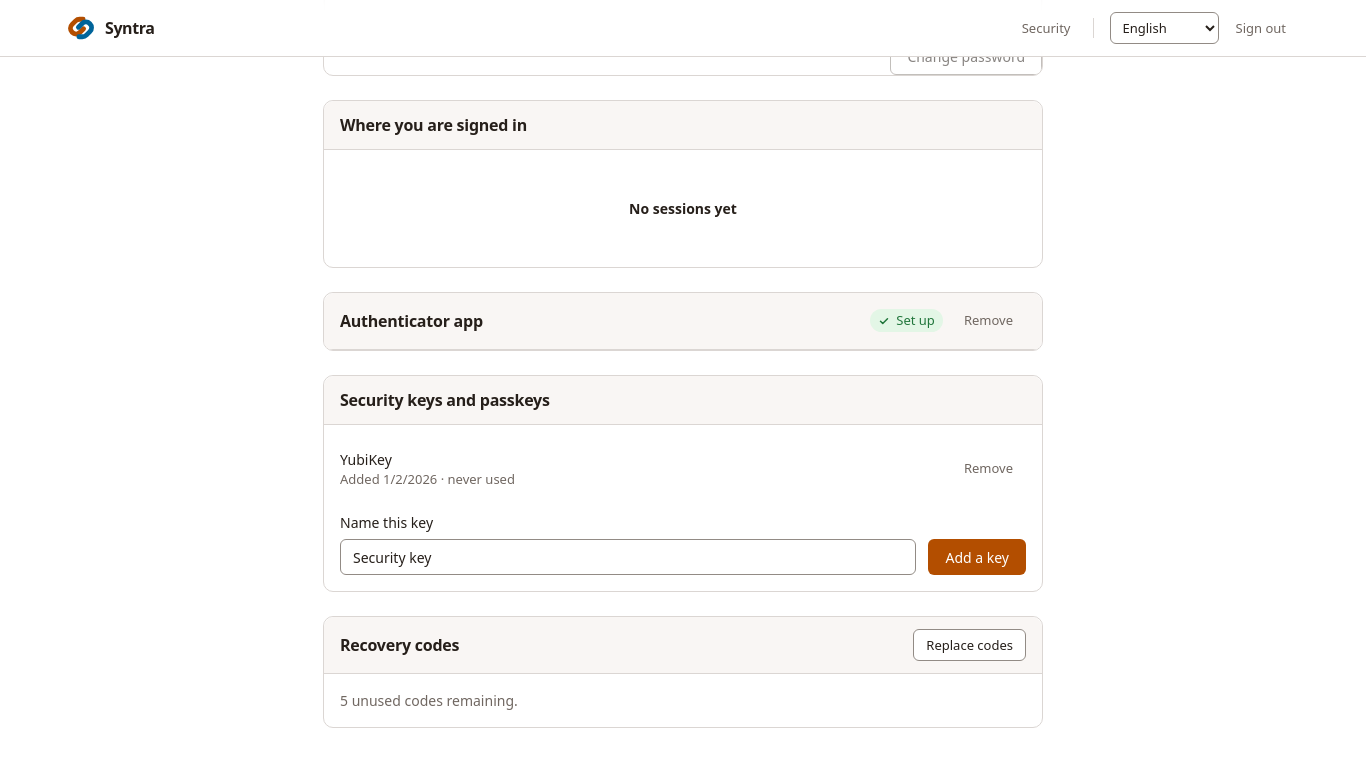
Test: removing a security key says what it cost › reports a refusal instead of doing nothing visible
(page scrolled)
Expected: the text "YubiKey" is shown, top-left (340, 450), bottom-right (392, 469)
Click the button "Remove" in the row of "YubiKey": (988, 468) top-left (951, 452), bottom-right (1026, 484)
(page scrolled)
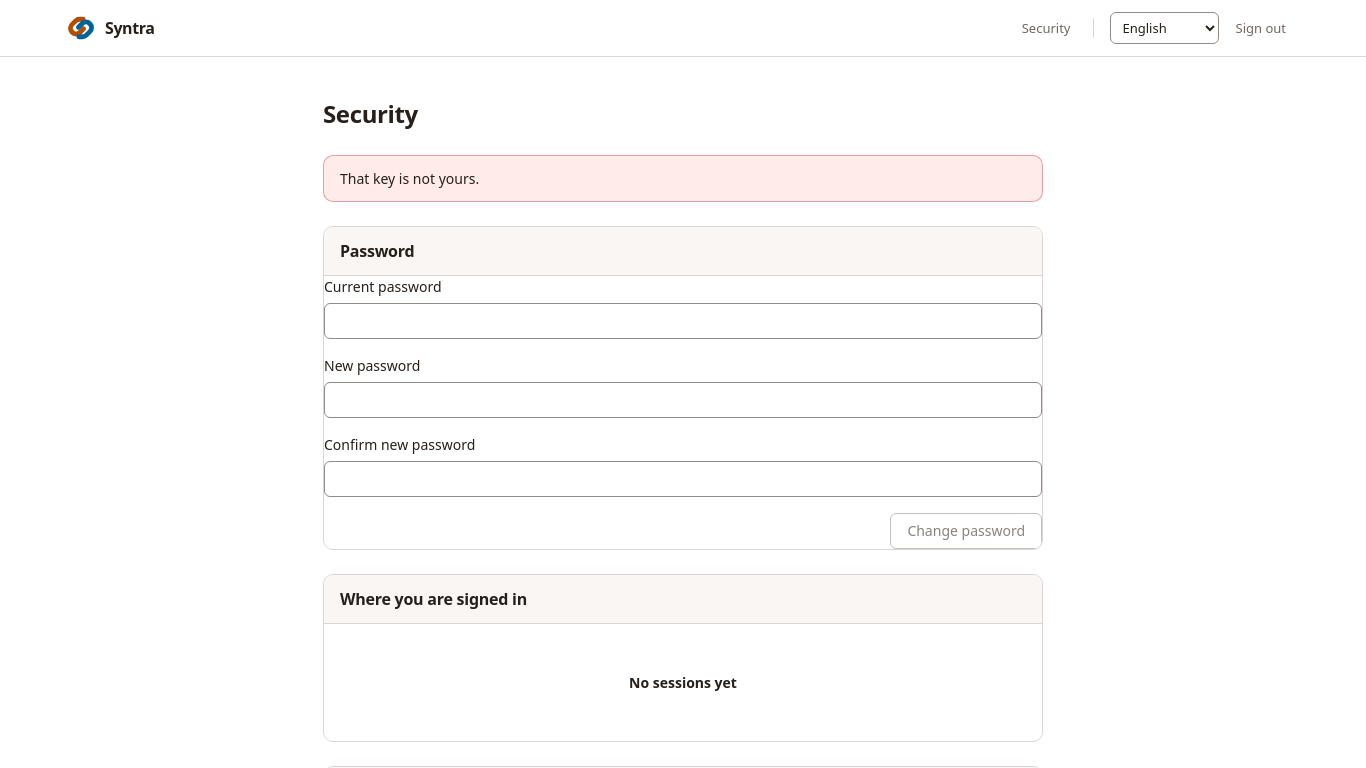
Expected: the text "That key is not yours." is shown, top-left (340, 169), bottom-right (479, 188)
